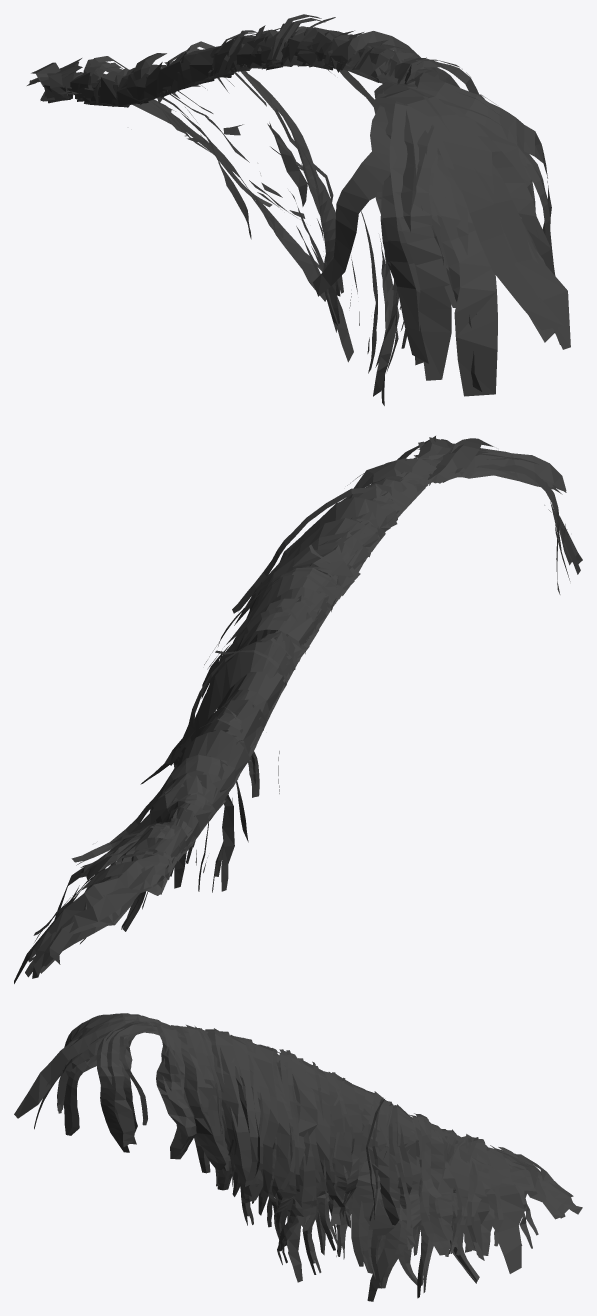
Rendered from Mane.glb.
The picture shows the model from 3 angles, top to bottom: view 1: azimuth 30°, elevation 25°; view 2: azimuth 150°, elevation 25°; view 3: azimuth 270°, elevation 25°; orthographic projection. The views are drawn at different scales.
Parts seen in each view (by area): view 1: Mane; view 2: Mane; view 3: Mane.
Boxes of the visible parts, left/top/right/bottom form: Mane: left=27, top=14, right=570, bottom=405; Mane: left=14, top=436, right=582, bottom=983; Mane: left=14, top=1013, right=582, bottom=1301.
Bounding box in the file's own units: 39.27 × 57.35 × 121.
Materials: 1 (1 with a texture image).
